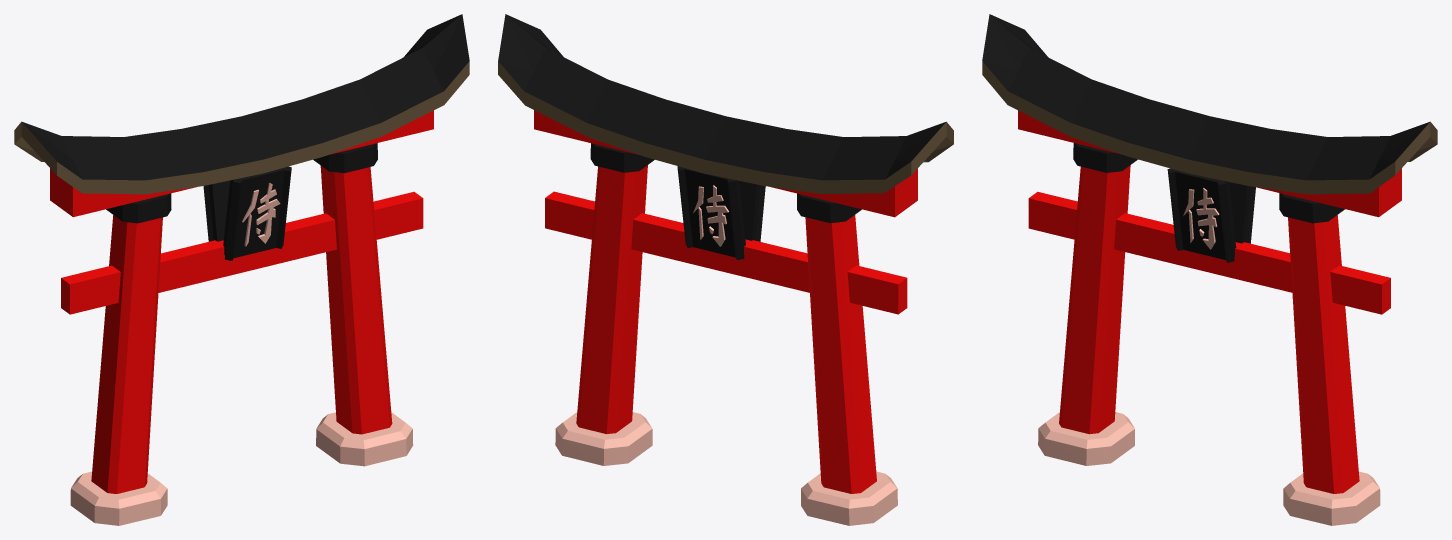
File: Torii.FBX
The picture shows the model from 3 angles, left to right: view 1: azimuth 30°, elevation 25°; view 2: azimuth 150°, elevation 25°; view 3: azimuth 330°, elevation 25°; orthographic projection.
Visible parts, largest first — view 1: Torii; view 2: Torii; view 3: Torii.
Boxes of the visible parts, x1,y1,x2,y2 form: Torii: (14, 14, 469, 525); Torii: (498, 14, 953, 525); Torii: (982, 14, 1437, 525).
Bounding box in the file's own units: 3.72 × 3.28 × 0.6236.
